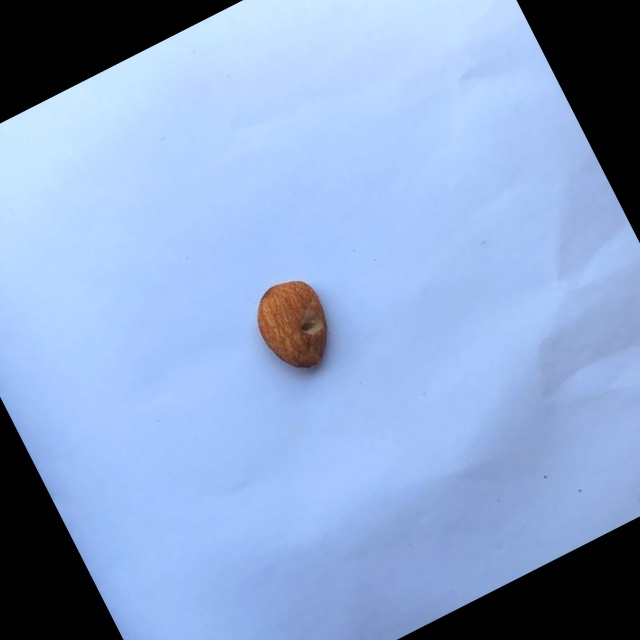grade3: (241, 264, 352, 386)
